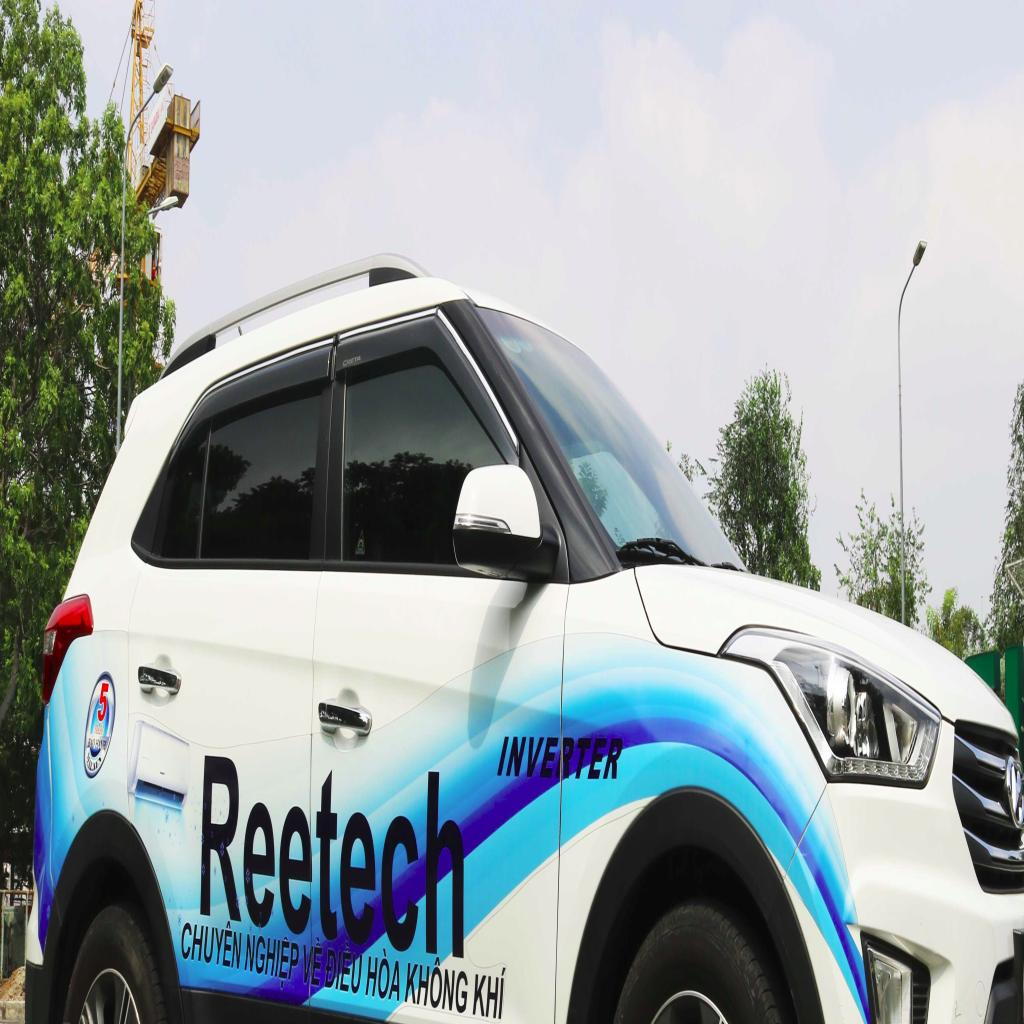text: (194, 748, 481, 967), (241, 924, 301, 999), (404, 951, 470, 1018), (180, 910, 246, 976), (360, 942, 402, 1010), (321, 937, 365, 999), (470, 958, 508, 1023), (300, 932, 324, 991), (96, 681, 111, 723), (92, 750, 102, 773), (94, 736, 108, 752), (85, 749, 93, 773), (94, 722, 105, 736), (87, 735, 96, 750)
